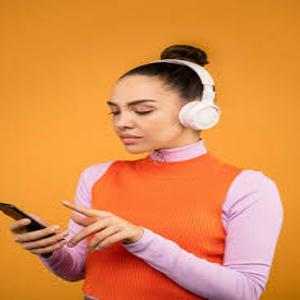Headphones: (125, 57, 222, 132)
